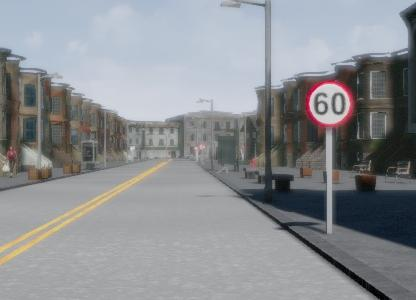Speed_60: (320, 72, 375, 128)
